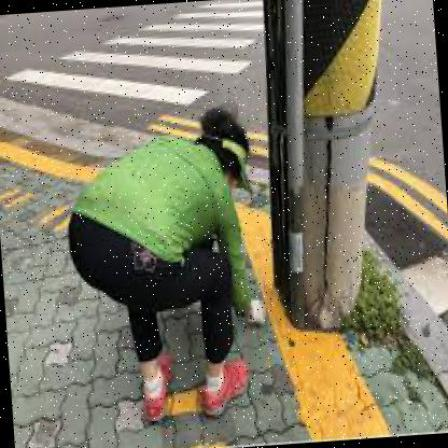silver: (61, 109, 274, 430)
